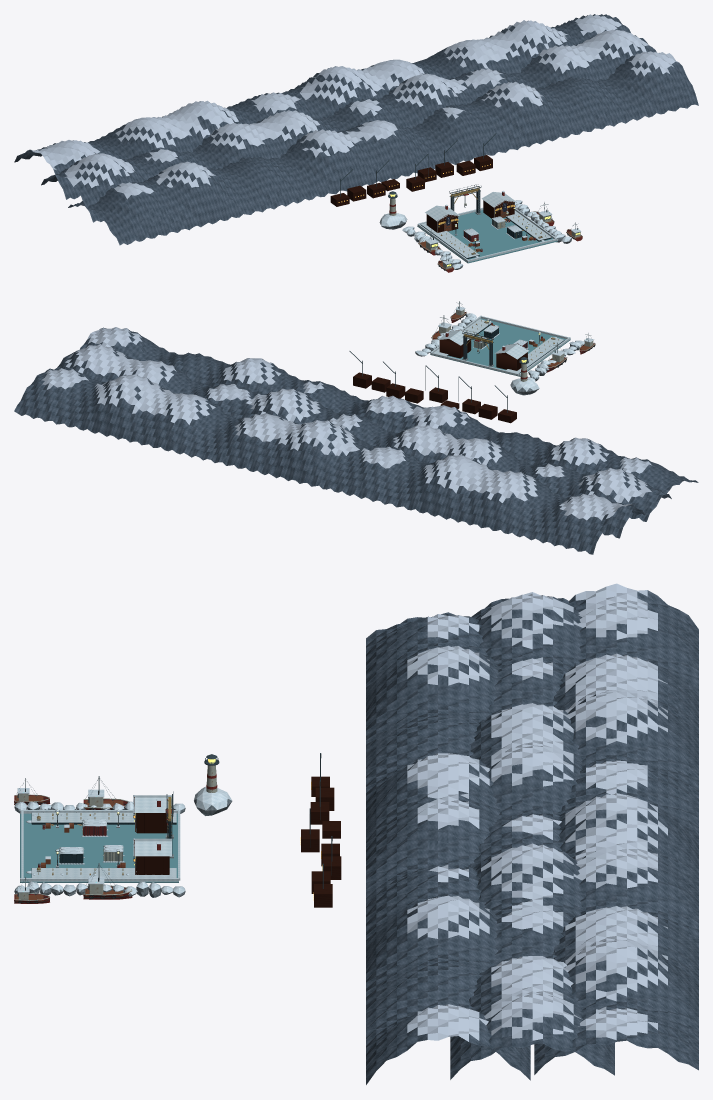
Rendered from harbour-refined.glb.
3 views of the same model, one above another, from view 1: azimuth 30°, elevation 25°; view 2: azimuth 150°, elevation 25°; view 3: azimuth 270°, elevation 25° (orthographic). The views are drawn at different scales.
Visible parts, largest first — view 1: Distant winter fjord mountains, Distant winter fjord mountains.001, Distant winter fjord mountains.002, VoyageBase_Powder snow, VoyageBase_Blue harbour ice; view 2: Distant winter fjord mountains.002, Distant winter fjord mountains.001, Distant winter fjord mountains, VoyageBase_Powder snow, VoyageBase_Blue harbour ice, VoyageBase_Oxide red paint; view 3: Distant winter fjord mountains.002, Distant winter fjord mountains, Distant winter fjord mountains.001, VoyageBase_Powder snow, VoyageBase_Blue harbour ice, Lighthouse island.
Boxes of the visible parts, left/top/right/bottom form: Distant winter fjord mountains: left=68, top=51, right=698, bottom=245; Distant winter fjord mountains.001: left=41, top=29, right=656, bottom=222; Distant winter fjord mountains.002: left=14, top=14, right=630, bottom=199; VoyageBase_Powder snow: left=417, top=192, right=557, bottom=262; VoyageBase_Blue harbour ice: left=417, top=210, right=557, bottom=263; Distant winter fjord mountains.002: left=14, top=368, right=644, bottom=554; Distant winter fjord mountains.001: left=54, top=344, right=671, bottom=538; Distant winter fjord mountains: left=80, top=327, right=698, bottom=521; VoyageBase_Powder snow: left=430, top=315, right=570, bottom=375; VoyageBase_Blue harbour ice: left=430, top=318, right=570, bottom=376; VoyageBase_Oxide red paint: left=439, top=339, right=527, bottom=370; Distant winter fjord mountains.002: left=534, top=583, right=698, bottom=1074; Distant winter fjord mountains: left=366, top=612, right=530, bottom=1084; Distant winter fjord mountains.001: left=450, top=592, right=614, bottom=1079; VoyageBase_Powder snow: left=20, top=795, right=180, bottom=881; VoyageBase_Blue harbour ice: left=20, top=813, right=178, bottom=882; Lighthouse island: left=194, top=786, right=232, bottom=815.
Size of the model in its own units: 225 by 17.44 by 147.
Materials: 29 (15 with a texture image).
